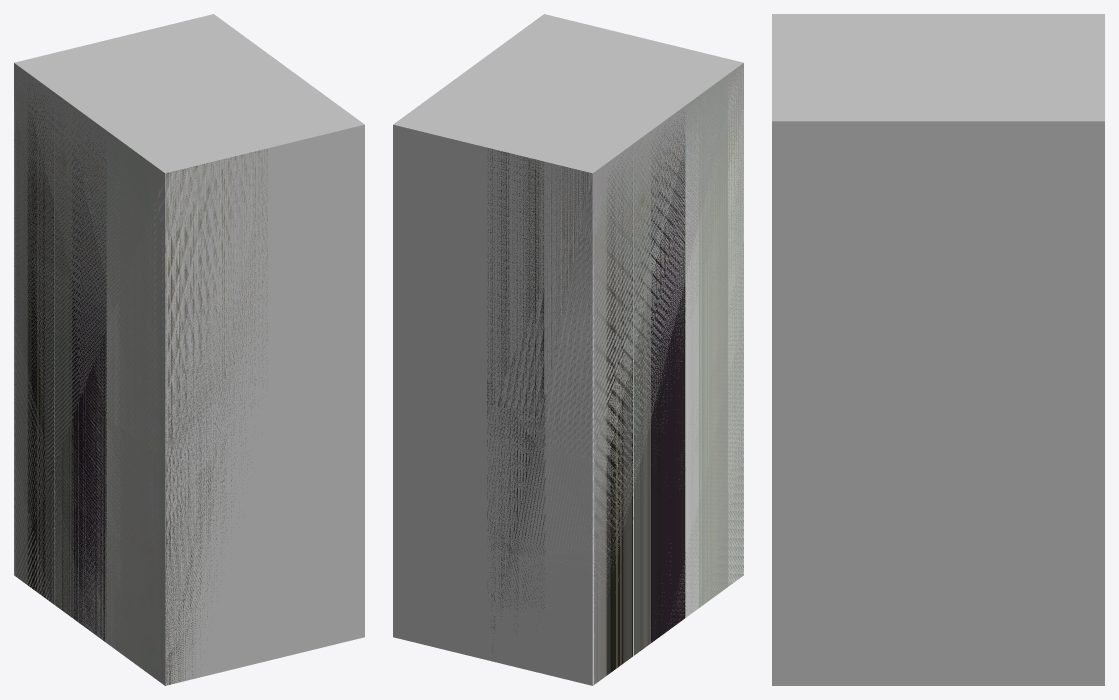
File: pantry_02.DAE
3 views of the same model, side by side, from view 1: azimuth 30°, elevation 25°; view 2: azimuth 150°, elevation 25°; view 3: azimuth 270°, elevation 25° (orthographic). The views are drawn at different scales.
Visible parts, largest first — view 1: bounds, pantry_two100, col-1; view 2: bounds, col-1, pantry_two100; view 3: bounds.
Boxes of the visible parts, left/top/right/bottom form: bounds: left=14, top=14, right=364, bottom=685; pantry_two100: left=14, top=63, right=267, bottom=685; col-1: left=14, top=70, right=267, bottom=646; bounds: left=393, top=14, right=743, bottom=685; col-1: left=487, top=69, right=743, bottom=685; pantry_two100: left=491, top=63, right=743, bottom=625; bounds: left=772, top=14, right=1104, bottom=685.
Bounding box in the file's own units: 99.28 × 130 × 243.
